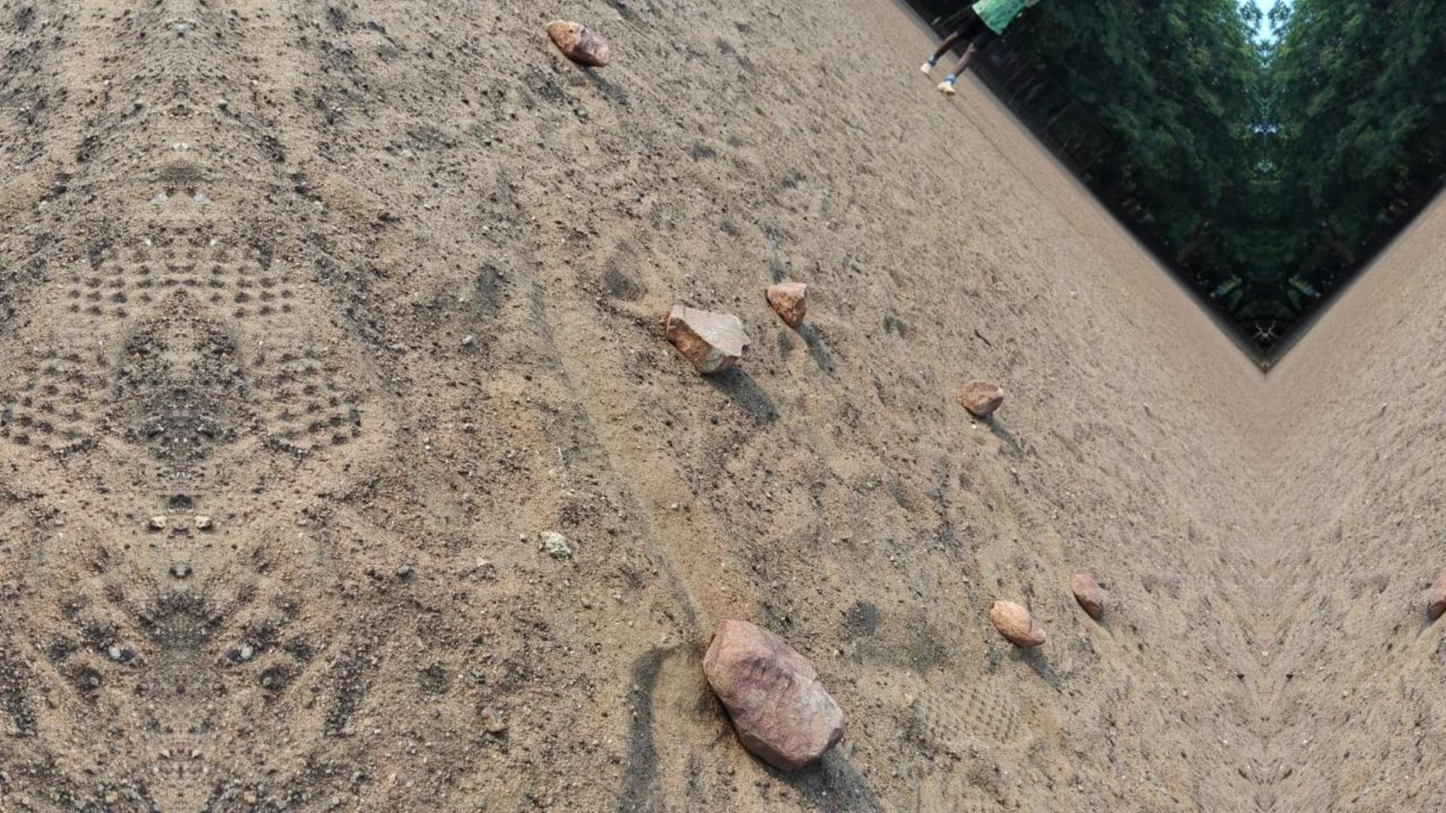rock: (703, 620, 844, 769), (664, 305, 749, 374), (546, 19, 609, 65), (988, 601, 1045, 646), (764, 282, 807, 329), (957, 379, 1004, 417), (1070, 571, 1101, 619), (1427, 569, 1445, 620)
